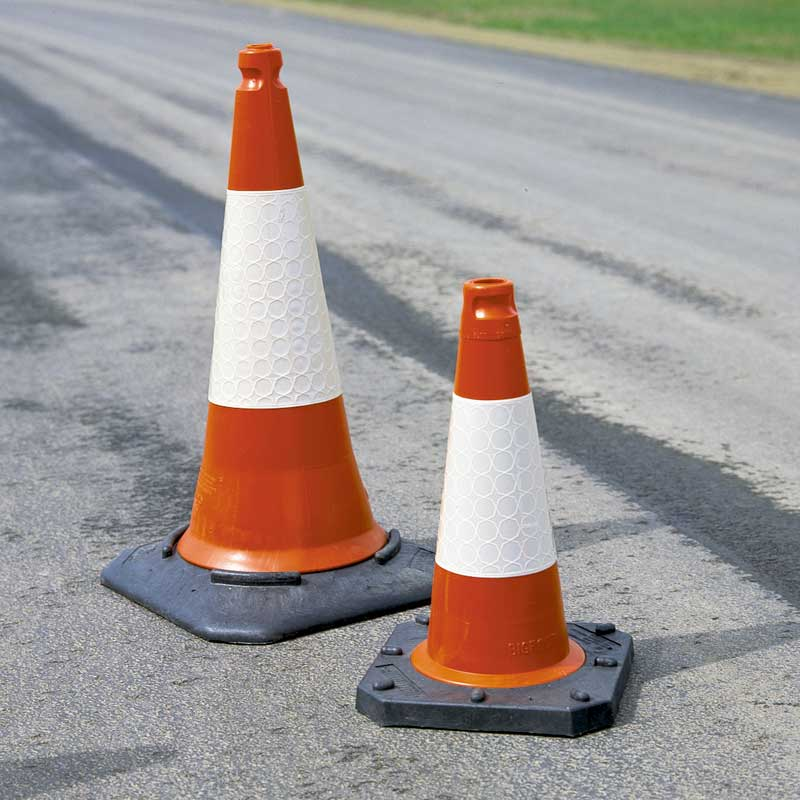cone: (98, 40, 451, 646), (356, 276, 634, 731)
